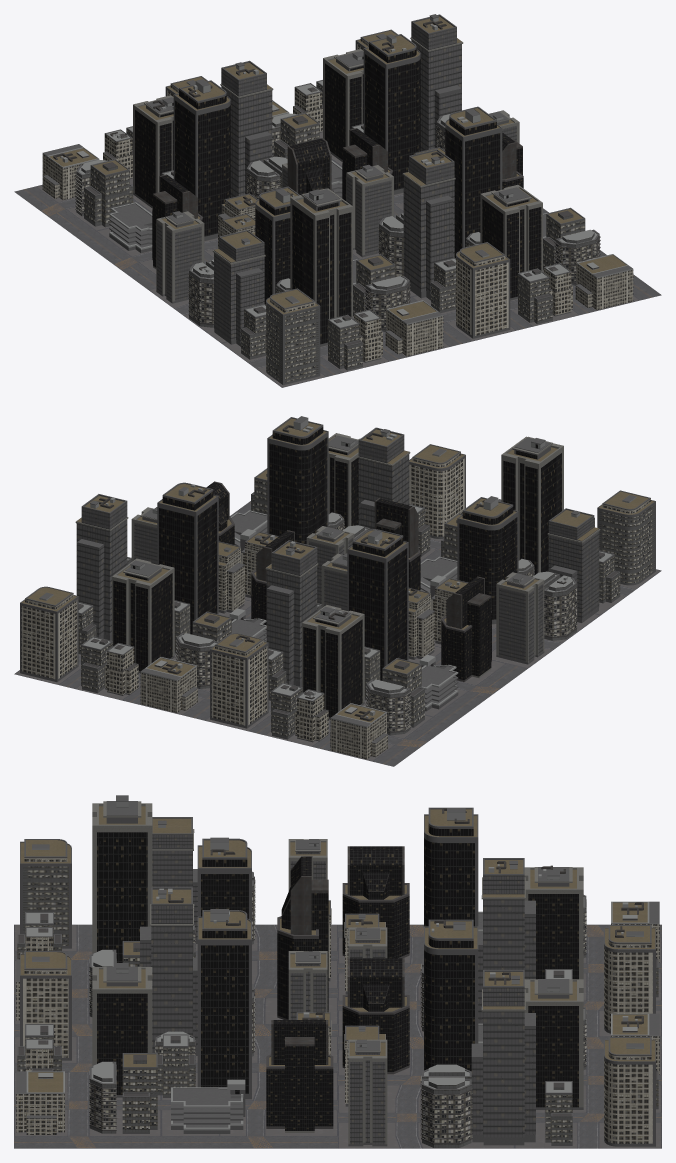
The model's file is BuildingSphere_1.gltf.
3 views of the same model, one above another, from view 1: azimuth 30°, elevation 25°; view 2: azimuth 150°, elevation 25°; view 3: azimuth 270°, elevation 25° (orthographic). The views are drawn at different scales.
Visible parts, largest first — view 1: cityPiece; view 2: cityPiece; view 3: cityPiece.
Part boxes in pixels (bbox=[...]): cityPiece: bbox=[14, 14, 661, 387]; cityPiece: bbox=[14, 416, 661, 766]; cityPiece: bbox=[14, 795, 661, 1148].
Size of the model in its own units: 648 by 241 by 792.
Materials: 7 (7 with a texture image).
